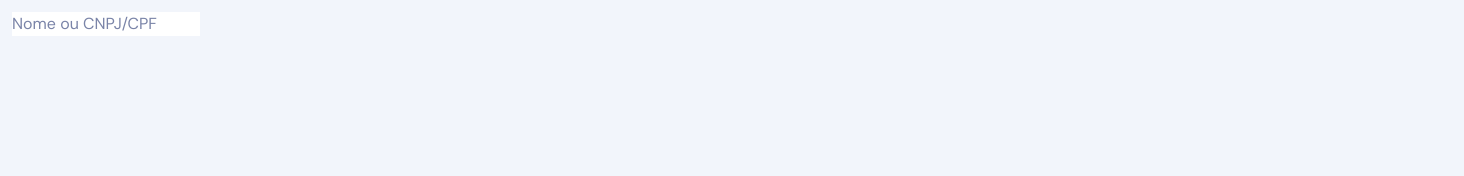
Test case: pickers › PersonPicker busca por nome, navega com as setas e seleciona com Enter
Type "an" into the dropdown named "Pessoa".
click(106, 24); type("an")  # box [12,12,200,36]
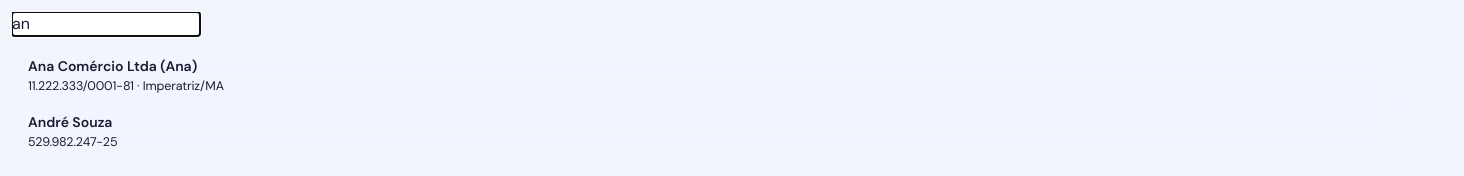
Expected: the number of options is 2, [18,48,1446,104]; [18,104,1446,160]
Expected: the text "11.222.333/0001-81 · Imperatriz/MA" is shown, [28,78,224,94]
Press Arrowdown Arrowdown Arrowup Enter
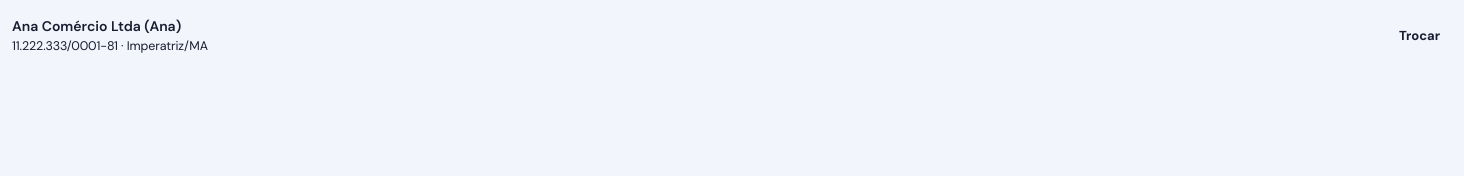
Expected: the text "Ana Comércio Ltda (Ana)" is shown, [12,17,181,35]
Click the button "Trocar".
click(1419, 36)  # box [1387,20,1452,52]
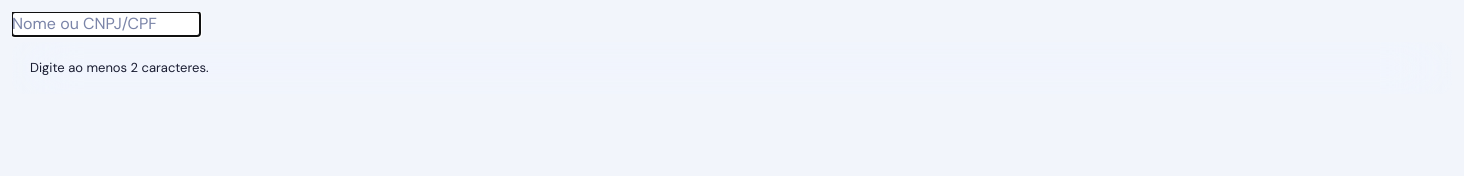
Expected: the dropdown named "Pessoa" is shown, [12,12,200,36]
